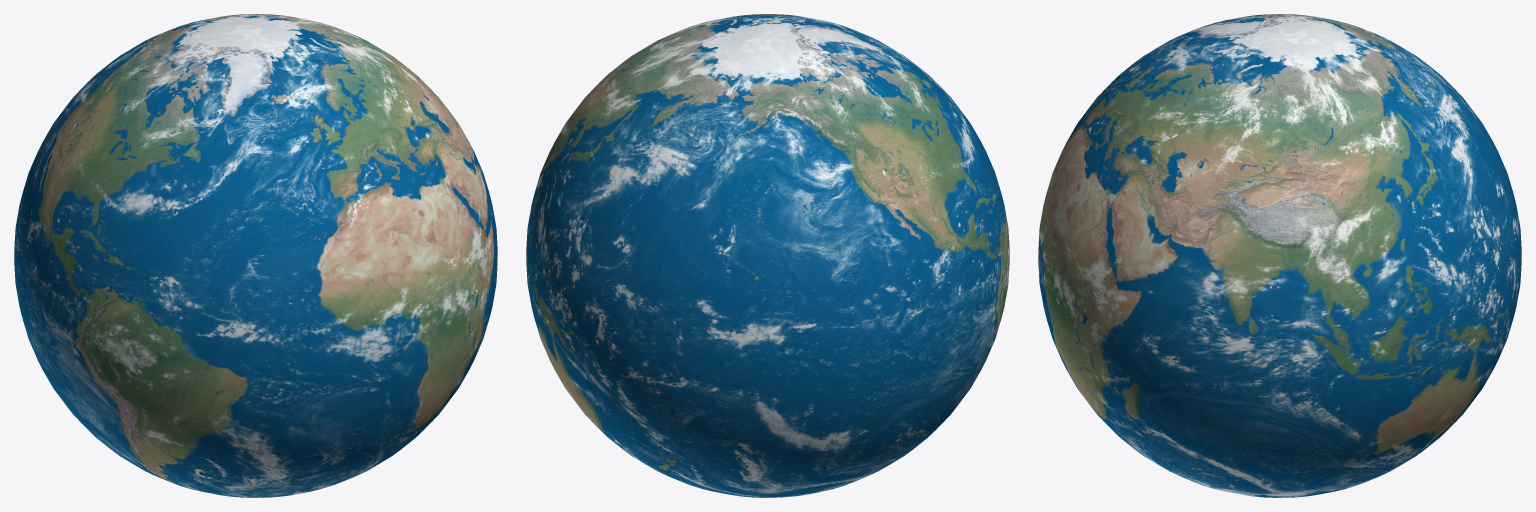
The model's file is Globe.fbx.
3 renders of one model, left to right at view 1: azimuth 30°, elevation 25°; view 2: azimuth 150°, elevation 25°; view 3: azimuth 270°, elevation 25°, orthographic.
Visible parts, largest first — view 1: Earth_Planet; view 2: Earth_Planet; view 3: Earth_Planet.
Part boxes in pixels (left/top/right/bottom): Earth_Planet: left=14, top=14, right=497, bottom=497; Earth_Planet: left=526, top=14, right=1009, bottom=497; Earth_Planet: left=1038, top=14, right=1521, bottom=497.
Bounding box in the file's own units: 98.74 × 98.84 × 98.74.
